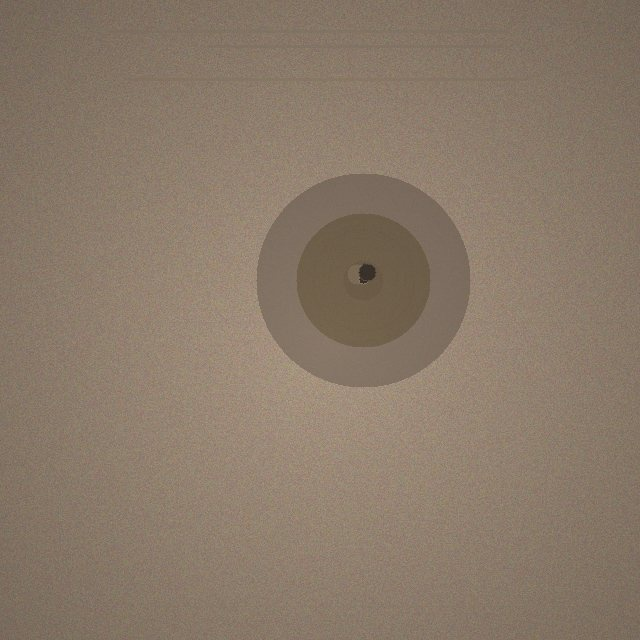shrinkage: (256, 173, 470, 387)
